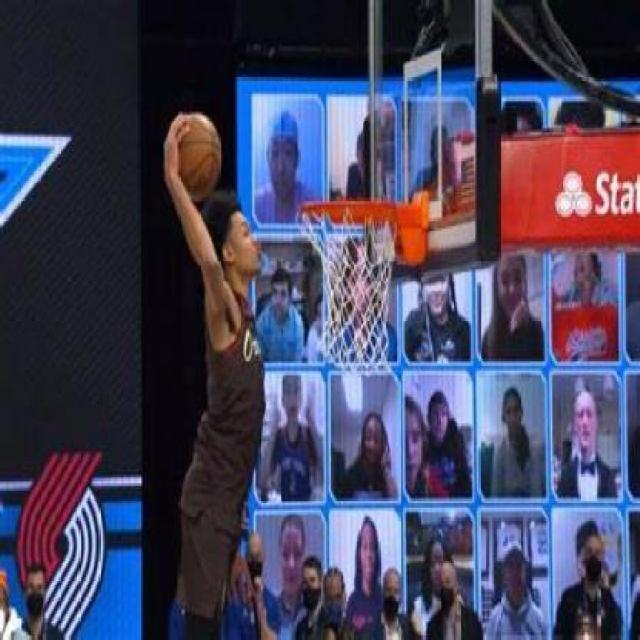basketball: (168, 115, 220, 202)
rim: (296, 198, 400, 376)
